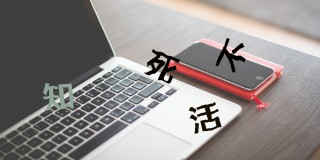不: (215, 34, 247, 72)
死: (146, 48, 181, 83)
活: (188, 102, 223, 134)
知: (42, 81, 74, 113)
